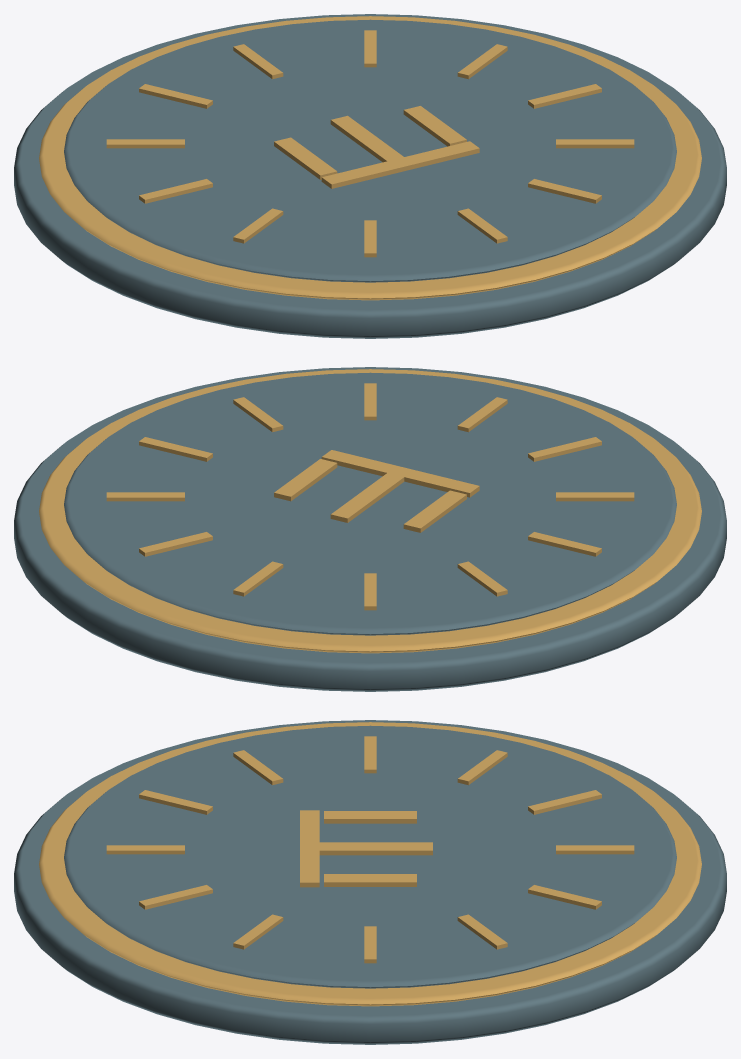
File: crown_seal.glb
3 views of the same model, one above another, from view 1: azimuth 30°, elevation 25°; view 2: azimuth 150°, elevation 25°; view 3: azimuth 270°, elevation 25° (orthographic).
Visible parts, largest first — view 1: seal_face, seal_base, seal_rim, crown_base, crown_point.001, crown_point, crown_point.002, sunray.004, sunray.010, sunray.005, sunray.009, sunray.003 (+5 smaller); view 2: seal_face, seal_base, seal_rim, crown_base, crown_point.001, crown_point, crown_point.002, sunray.002, sunray.008, sunray.001, sunray.009, sunray.003 (+5 smaller); view 3: seal_face, seal_base, seal_rim, crown_point.001, crown_base, crown_point, crown_point.002, sunray, sunray.006, sunray.001, sunray.005, sunray.007 (+5 smaller).
Part boxes in pixels (left/top/right/bottom): seal_face: left=64, top=19, right=676, bottom=282; seal_base: left=14, top=14, right=726, bottom=338; seal_rim: left=39, top=16, right=701, bottom=300; crown_base: left=321, top=141, right=479, bottom=188; crown_point.001: left=330, top=115, right=404, bottom=165; crown_point: left=274, top=137, right=337, bottom=179; crown_point.002: left=403, top=106, right=466, bottom=146; sunray.004: left=556, top=139, right=634, bottom=148; sunray.010: left=106, top=139, right=184, bottom=148; sunray.005: left=528, top=179, right=601, bottom=203; sunray.009: left=139, top=179, right=212, bottom=203; sunray.003: left=528, top=84, right=601, bottom=108; seal_face: left=64, top=372, right=676, bottom=635; seal_base: left=14, top=367, right=726, bottom=691; seal_rim: left=39, top=369, right=701, bottom=653; crown_base: left=321, top=450, right=479, bottom=497; crown_point.001: left=330, top=468, right=409, bottom=522; crown_point: left=403, top=490, right=466, bottom=532; crown_point.002: left=274, top=459, right=337, bottom=501; sunray.002: left=106, top=492, right=184, bottom=501; sunray.008: left=556, top=492, right=634, bottom=501; sunray.001: left=139, top=532, right=212, bottom=556; sunray.009: left=528, top=532, right=601, bottom=556; sunray.003: left=139, top=437, right=212, bottom=461; seal_face: left=64, top=725, right=676, bottom=988; seal_base: left=14, top=720, right=726, bottom=1044; seal_rim: left=39, top=722, right=701, bottom=1006; crown_point.001: left=308, top=842, right=432, bottom=855; crown_base: left=300, top=810, right=319, bottom=887; crown_point: left=324, top=811, right=416, bottom=823; crown_point.002: left=324, top=874, right=416, bottom=886; sunray: left=556, top=845, right=634, bottom=854; sunray.006: left=106, top=845, right=184, bottom=854; sunray.001: left=528, top=885, right=601, bottom=909; sunray.005: left=139, top=885, right=212, bottom=909; sunray.007: left=139, top=790, right=212, bottom=814.
Bounding box in the file's own units: 2 × 0.156 × 2.
